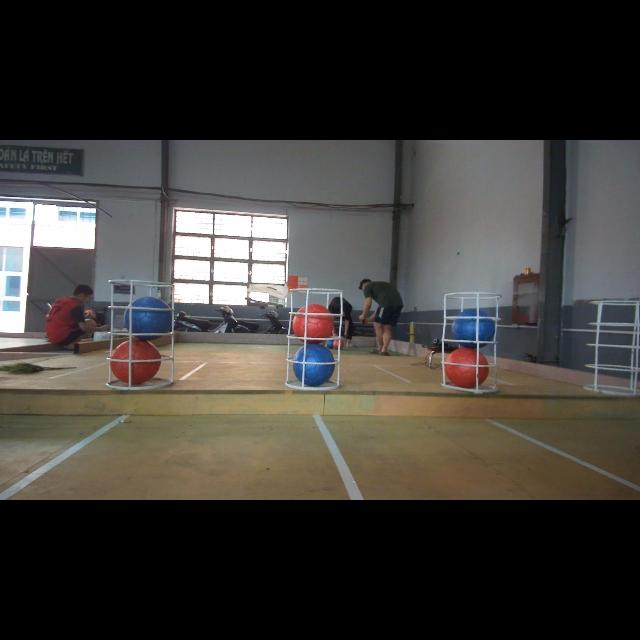B: (124, 297, 174, 339), (294, 344, 336, 386), (450, 310, 496, 348)
R: (110, 340, 162, 384), (292, 303, 336, 343), (445, 347, 489, 387)
